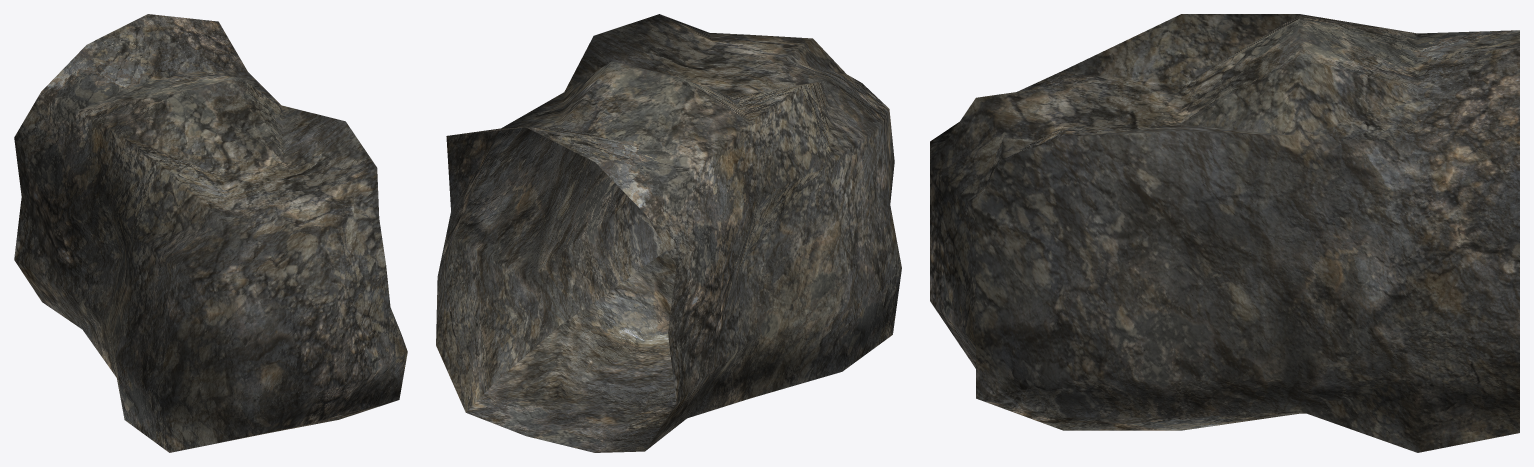
Rendered from cave_piece_01.glb.
3 renders of one model, left to right at view 1: azimuth 30°, elevation 25°; view 2: azimuth 150°, elevation 25°; view 3: azimuth 270°, elevation 25°, orthographic. The views are drawn at different scales.
Visible parts, largest first — view 1: mine_01_mine_0; view 2: mine_01_mine_0; view 3: mine_01_mine_0.
Part boxes in pixels (<box>): mine_01_mine_0: <box>14,14,407,452</box>; mine_01_mine_0: <box>436,14,901,452</box>; mine_01_mine_0: <box>930,14,1519,452</box>.
Size of the model in its own units: 4.36 by 4.47 by 6.44.
1 material, 1 textured.
